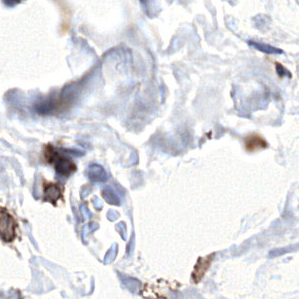Lymphocyte: (42, 178, 67, 206)
